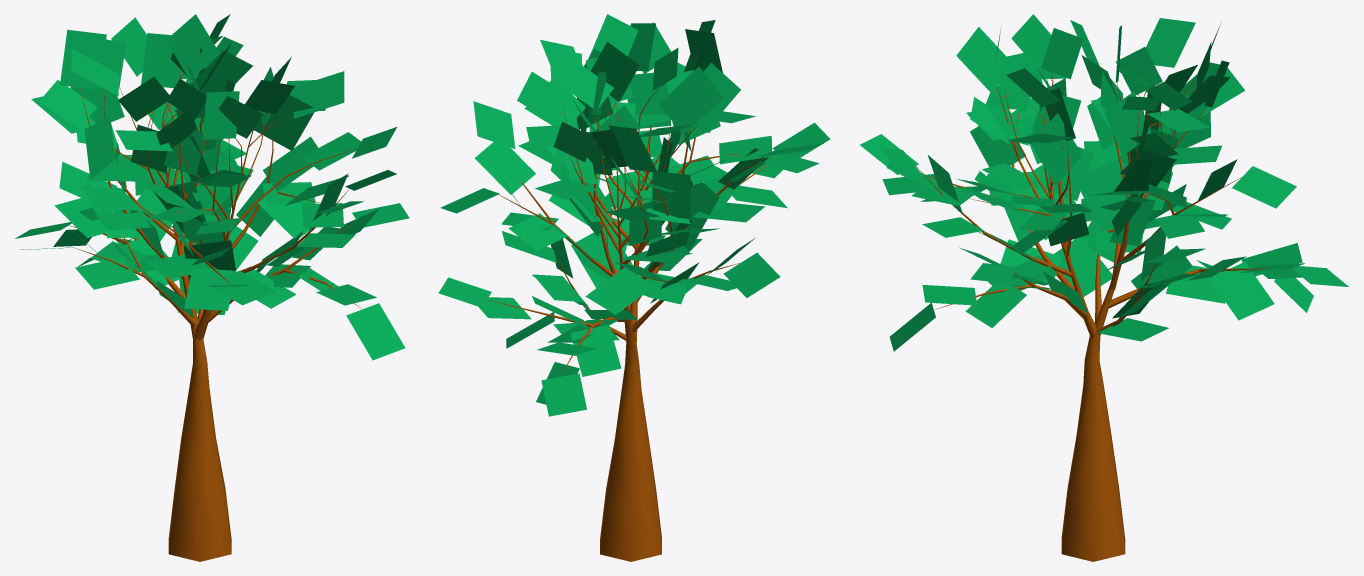
The model's file is ShortTree0.fbx.
3 views of the same model, side by side, from view 1: azimuth 30°, elevation 25°; view 2: azimuth 150°, elevation 25°; view 3: azimuth 270°, elevation 25° (orthographic). The views are drawn at different scales.
Visible parts, largest first — view 1: tree; view 2: tree; view 3: tree.
Boxes of the visible parts, x1,y1,x2,y2 form: tree: (15,14,409,561); tree: (438,14,830,561); tree: (860,14,1348,561).
Size of the model in its own units: 475 by 727 by 614.
